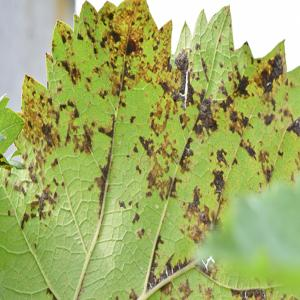Folha: (0, 0, 299, 299)
Fungo: (126, 39, 298, 298), (4, 74, 92, 230), (4, 150, 65, 230), (20, 176, 60, 230), (180, 184, 213, 246), (147, 252, 190, 291), (170, 48, 195, 110), (193, 96, 218, 136), (265, 52, 283, 92), (174, 48, 189, 95), (34, 183, 52, 221), (210, 168, 225, 201), (240, 137, 256, 160), (138, 134, 154, 157), (174, 48, 189, 70), (12, 179, 30, 196), (201, 254, 215, 272), (216, 147, 228, 167), (20, 210, 29, 229), (155, 234, 163, 250), (128, 287, 138, 299), (136, 227, 145, 239), (51, 157, 58, 170), (132, 212, 139, 224), (118, 200, 126, 209), (52, 176, 59, 186), (135, 164, 141, 174), (133, 141, 138, 153), (145, 190, 152, 198), (88, 183, 94, 191), (195, 42, 200, 50), (134, 200, 138, 208), (219, 61, 223, 68), (128, 200, 132, 206)
